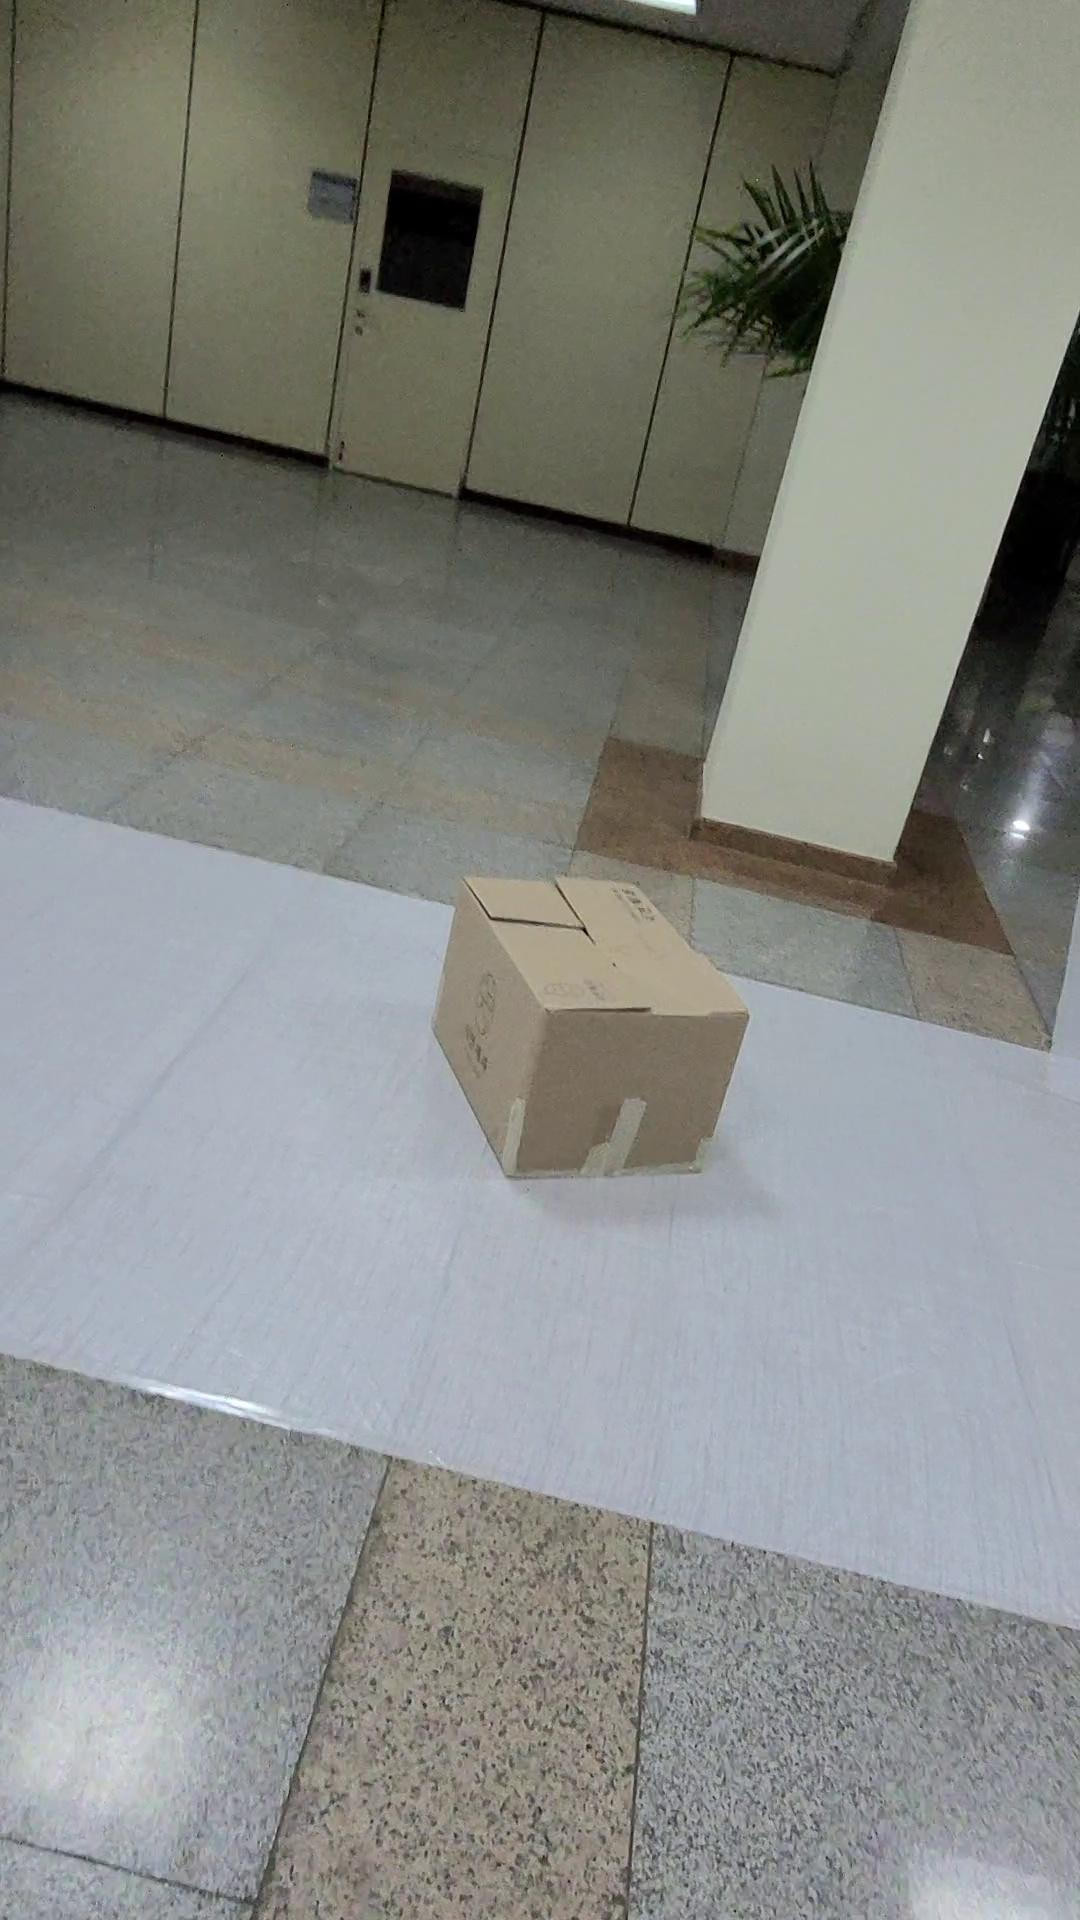Box: (411, 845, 757, 1207)
